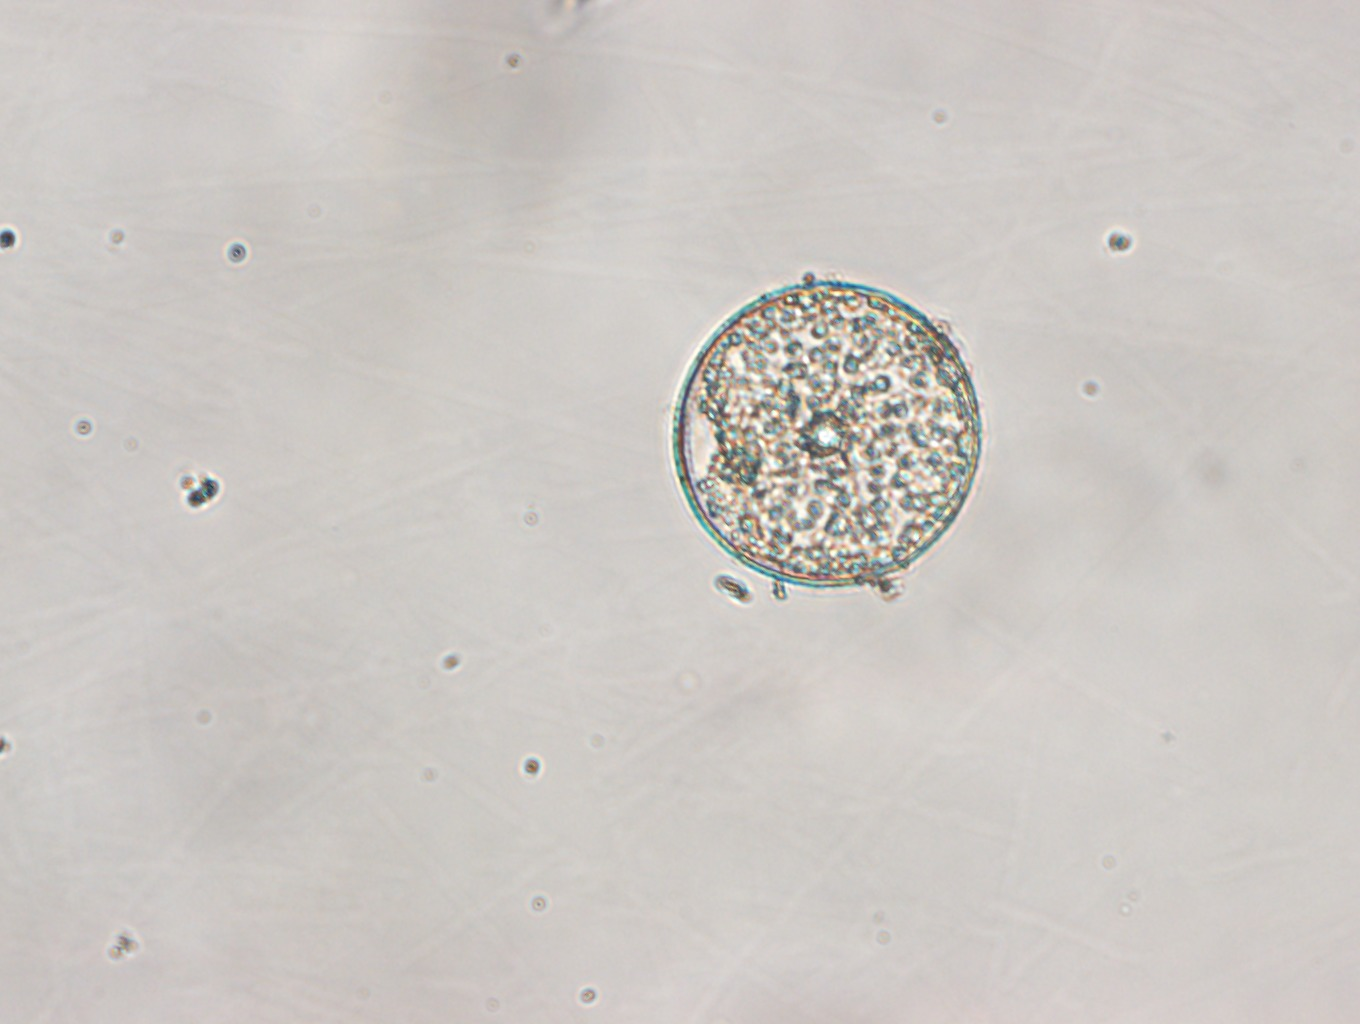coscinodiscus: (669, 278, 983, 591)
